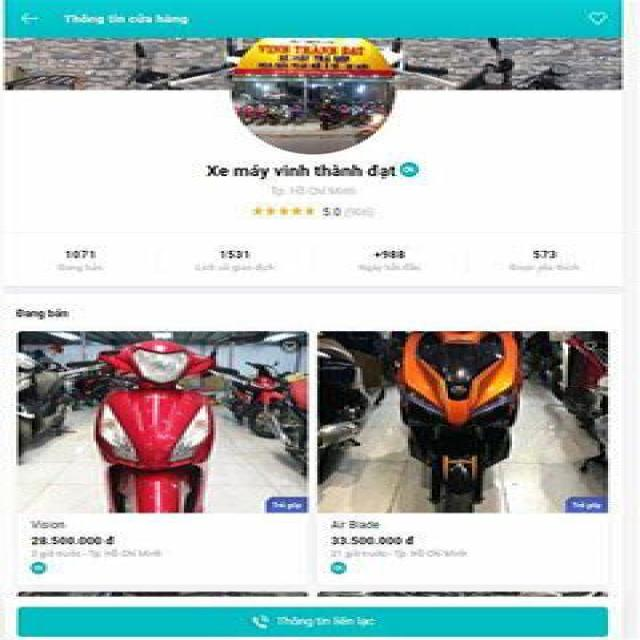motorcycle: (17, 345, 271, 509), (372, 329, 559, 516)
